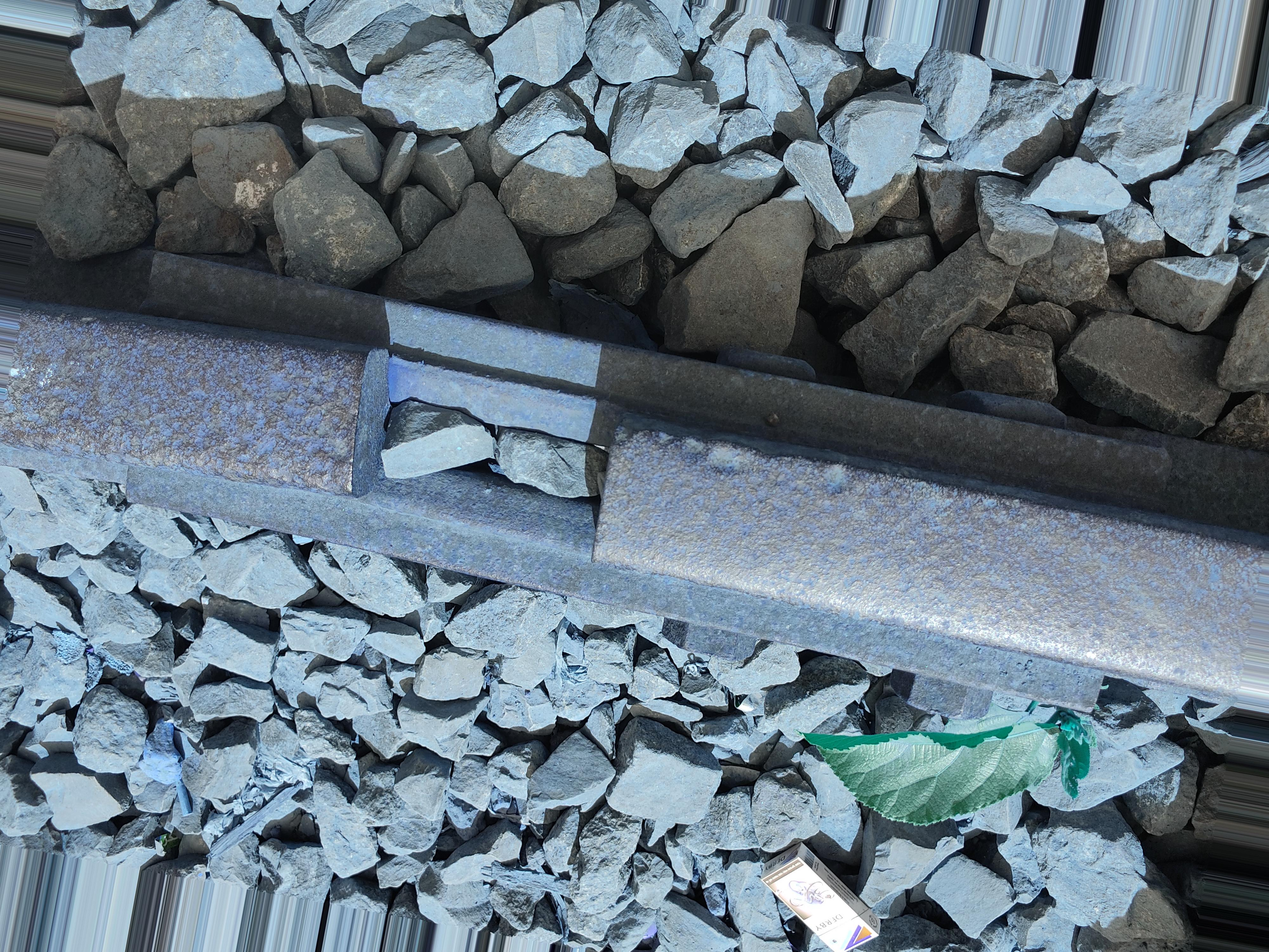tracks_fault: (262, 305, 700, 676)
